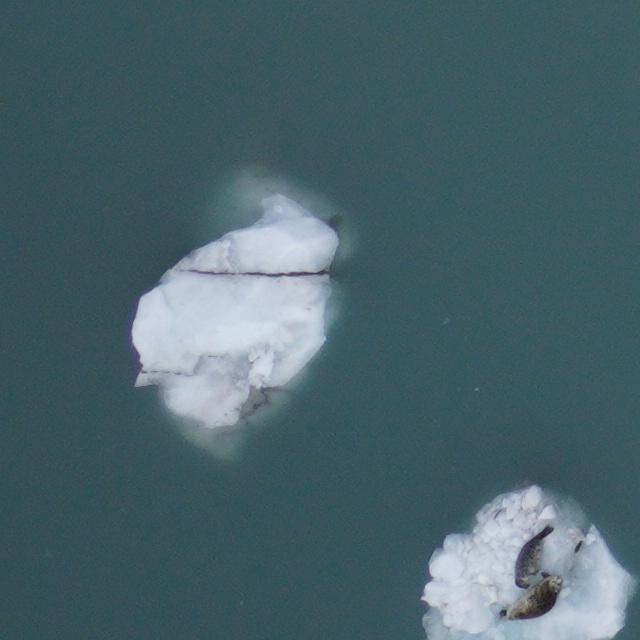seal: (494, 568, 568, 624), (510, 522, 560, 594)
